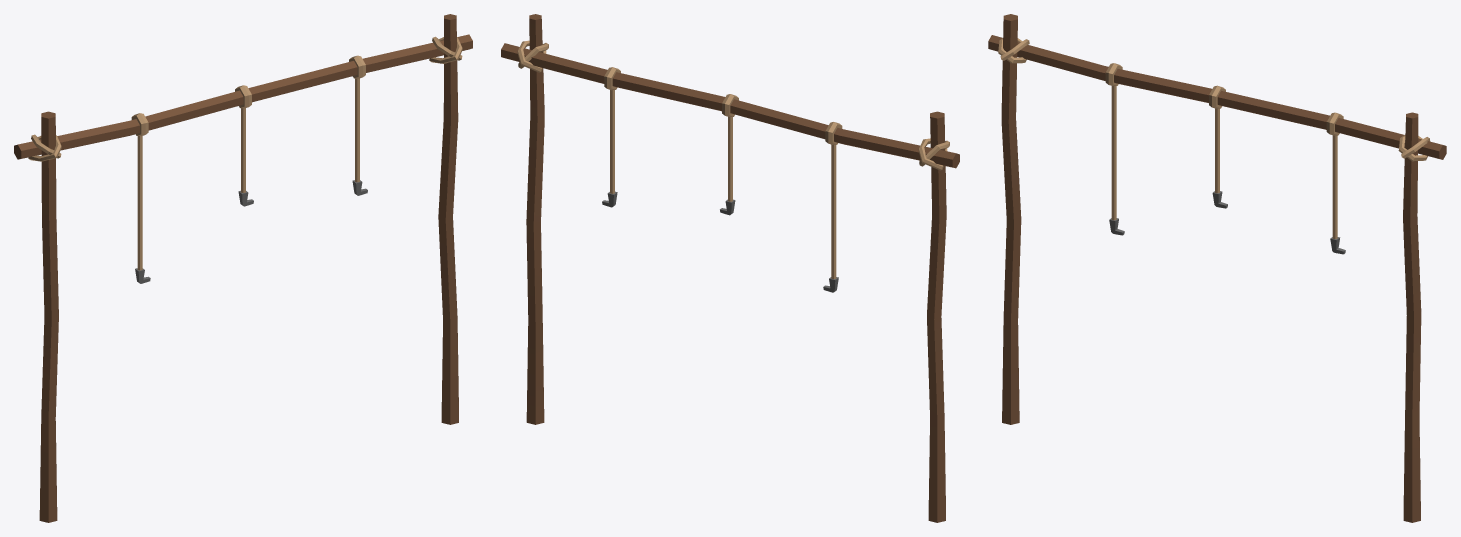
File: DryingFish.fbx
3 views of the same model, side by side, from view 1: azimuth 30°, elevation 25°; view 2: azimuth 150°, elevation 25°; view 3: azimuth 330°, elevation 25° (orthographic).
Parts seen in each view (by area): view 1: DryingFish_LOD0; view 2: DryingFish_LOD0; view 3: DryingFish_LOD0.
Boxes of the visible parts, <box> form: DryingFish_LOD0: <box>14,14,472,522</box>; DryingFish_LOD0: <box>501,14,959,522</box>; DryingFish_LOD0: <box>988,14,1446,522</box>.
Size of what is drawn, in the model's own units: 1.3 by 1.11 by 0.114.
